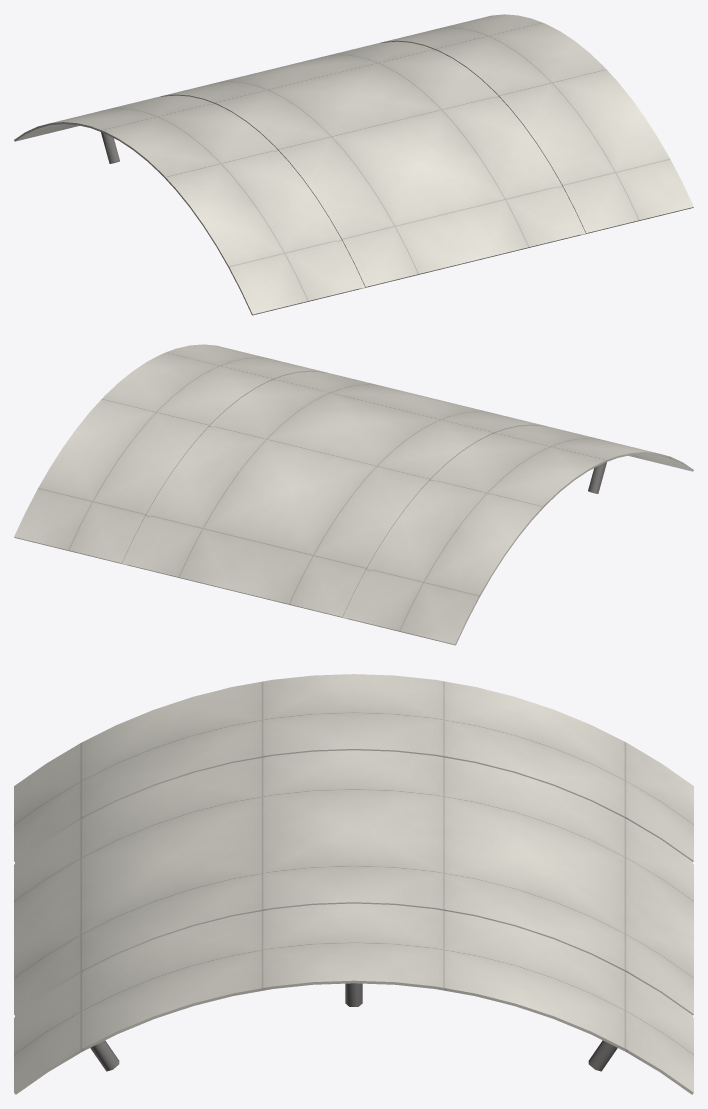
The model's file is ax_util_29_whipple_panel_s.glb.
3 views of the same model, one above another, from view 1: azimuth 30°, elevation 25°; view 2: azimuth 150°, elevation 25°; view 3: azimuth 270°, elevation 25° (orthographic). The views are drawn at different scales.
Visible parts, largest first — view 1: bumper_sheet; view 2: bumper_sheet; view 3: bumper_sheet, standoffs.
Part boxes in pixels (x1,y1,x2,y2): bumper_sheet: [14, 14, 693, 315]; bumper_sheet: [14, 344, 693, 645]; bumper_sheet: [14, 674, 693, 1094]; standoffs: [90, 983, 617, 1071].
Size of the model in its own units: 1 by 0.2053 by 0.9372.
2 materials, 2 textured.
